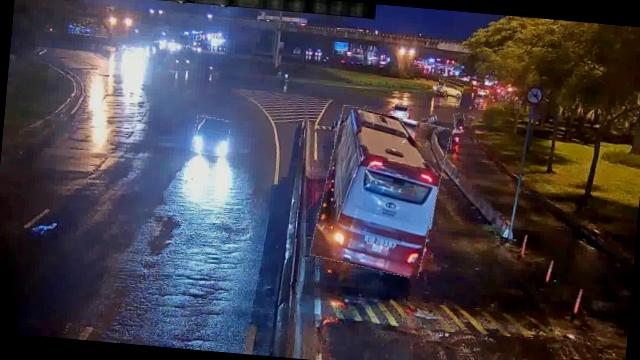Bike: (452, 130, 464, 154), (453, 114, 466, 132)
Bus: (314, 108, 446, 278)
Car: (192, 116, 230, 157), (386, 100, 414, 123), (437, 80, 464, 99)
